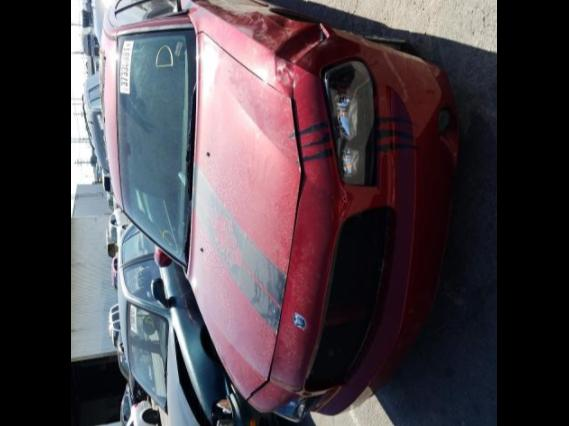Broken part: (244, 96, 308, 400), (278, 390, 334, 422)
Dent: (274, 22, 330, 90), (251, 12, 302, 46), (332, 184, 344, 210)
Scratch: (258, 18, 274, 44), (308, 38, 322, 48)
